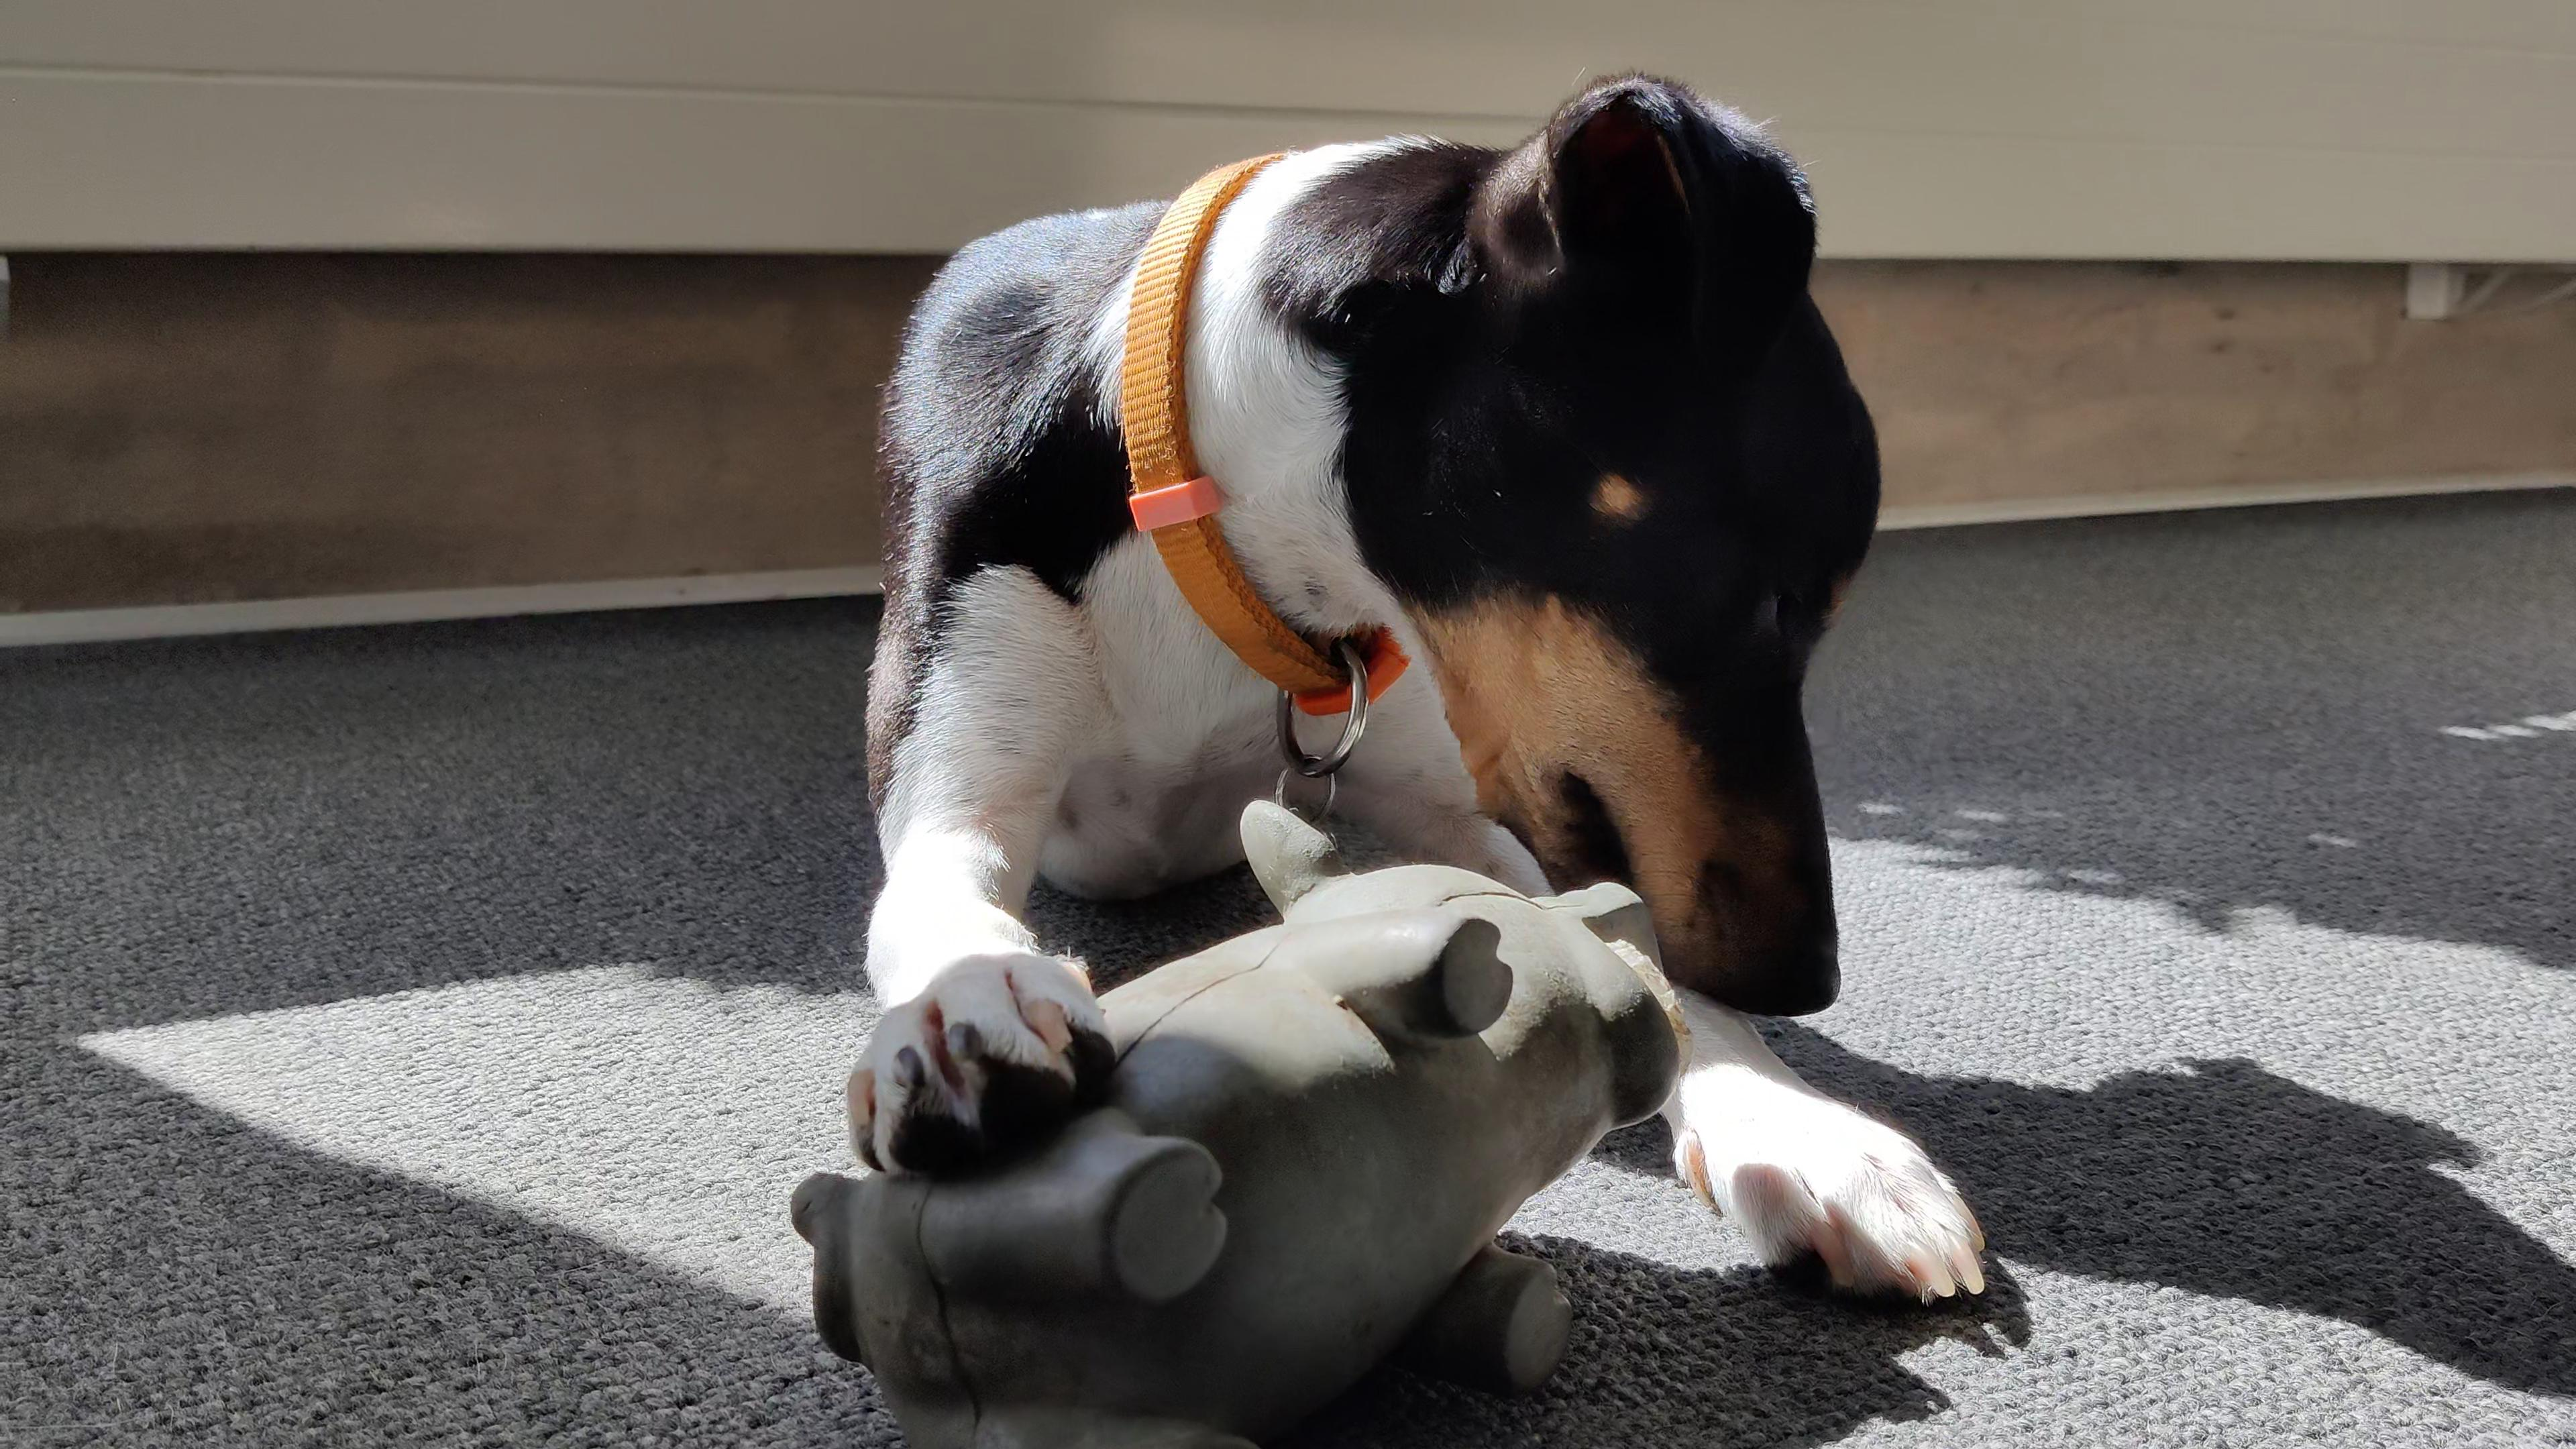Dog: (823, 53, 1999, 1316)
